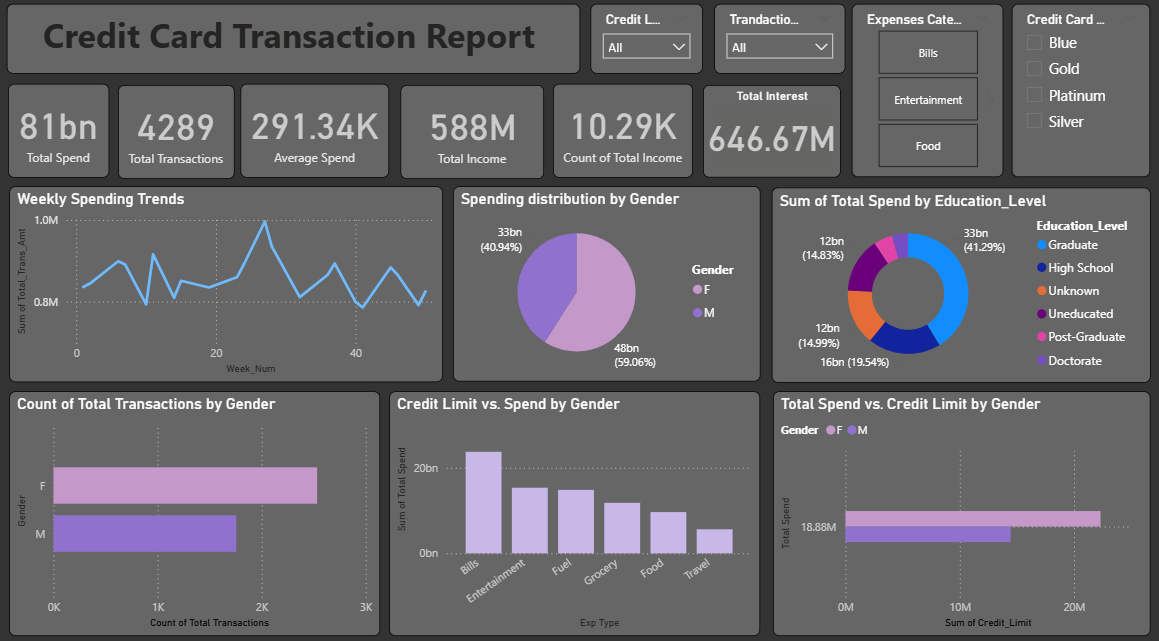

The dashboard page shown, as its layout file describes it:
{"tool":"powerbi","page":{"name":"Card Transaction Report","canvas":[1280,720],"ordinal":1},"visuals":[{"type":"card","title":"Total Spend","fields":{"Values":["Sum(Transactions.Total Spend)"]},"box":[11,102.9,111.1,102.9],"z":0},{"type":"card","fields":{"Values":["CountNonNull(Transactions.Total Transactions)"]},"box":[131.7,104.3,127.6,102.9],"z":1000},{"type":"card","fields":{"Values":["Sum(Transactions.Avg Spend per Transaction)"]},"box":[266.2,102.9,163.3,102.9],"z":2000},{"type":"lineChart","title":"Weekly Spending Trends","fields":{"Category":["Transactions.Week_Num"],"Y":["Sum(Transactions.Total_Trans_Amt)"]},"box":[12.3,215.4,476.2,215.4],"z":3000},{"type":"columnChart","title":"Credit Limit vs. Spend  by Gender","fields":{"Category":["Transactions.Exp Type"],"Y":["Sum(Transactions.Total Spend)"]},"box":[429.5,440.5,407.5,269],"z":4000},{"type":"pieChart","title":"Spending distribution by Gender","fields":{"Category":["Customer.Gender"],"Y":["Sum(Transactions.Total Spend)"]},"box":[499.5,215.4,337.6,214.1],"z":5000},{"type":"barChart","fields":{"Category":["Customer.Gender"],"Y":["CountNonNull(Transactions.Total Transactions)"]},"box":[12.3,440.5,407.5,269],"z":6000},{"type":"clusteredBarChart","title":"Total Spend vs. Credit Limit by Gender","fields":{"Series":["Customer.Gender"],"Category":["Transactions.Total Spend"],"Y":["Sum(Transactions.Credit_Limit)"]},"box":[850.8,440.5,414.4,269],"z":7000},{"type":"donutChart","fields":{"Category":["Customer.Education_Level"],"Y":["Sum(Transactions.Total Spend)"]},"box":[849.4,216.8,415.8,214.1],"z":8000},{"type":"textbox","box":[9.6,15.1,629.8,76.8],"z":9000},{"type":"slicer","fields":{"Values":["Transactions.Credit_Limit"]},"box":[650.4,15.1,123.5,76.8],"z":10000},{"type":"slicer","fields":{"Values":["Transactions.Exp Type"]},"box":[937.2,15.1,166,190.7],"z":11000},{"type":"slicer","fields":{"Values":["Transactions.Card_Category"]},"box":[1112.9,15.1,152.3,190.7],"z":12000},{"type":"card","fields":{"Values":["CountNonNull(Customer.Total Income)"]},"box":[609.3,102.9,153.7,102.9],"z":13000},{"type":"kpi","title":"Total Interest ","fields":{"TrendLine":["Transactions.Week_Num"],"Indicator":["Sum(Transactions.Total Interest)"]},"box":[773.9,104.3,150.9,101.5],"z":14000},{"type":"slicer","fields":{"Values":["Transactions.Week_Num"]},"box":[786.3,15.1,144.1,76.8],"z":15000},{"type":"card","fields":{"Values":["Max(Customer.Total Income)"]},"box":[441.9,104.3,157.8,102.9],"z":16000}]}

Visuals, with their boxes in screenshot pixels (x1, y1, x2, y2), scaled from the page's 1280x720 canvas onto the 1159x641 screenshot:
"Total Spend" card: Rect(10, 92, 111, 183)
card - CountNonNull(Transactions.Total Transactions): Rect(119, 93, 235, 184)
card - Sum(Transactions.Avg Spend per Transaction): Rect(241, 92, 389, 183)
"Weekly Spending Trends" lineChart: Rect(11, 192, 442, 384)
"Credit Limit vs. Spend  by Gender" columnChart: Rect(389, 392, 758, 632)
"Spending distribution by Gender" pieChart: Rect(452, 192, 758, 382)
barChart - Customer.Gender x CountNonNull(Transactions.Total Transactions): Rect(11, 392, 380, 632)
"Total Spend vs. Credit Limit by Gender" clusteredBarChart: Rect(770, 392, 1146, 632)
donutChart - Customer.Education_Level x Sum(Transactions.Total Spend): Rect(769, 193, 1146, 384)
textbox: Rect(9, 13, 579, 82)
slicer - Transactions.Credit_Limit: Rect(589, 13, 701, 82)
slicer - Transactions.Exp Type: Rect(849, 13, 999, 183)
slicer - Transactions.Card_Category: Rect(1008, 13, 1146, 183)
card - CountNonNull(Customer.Total Income): Rect(552, 92, 691, 183)
"Total Interest " kpi: Rect(701, 93, 837, 183)
slicer - Transactions.Week_Num: Rect(712, 13, 842, 82)
card - Max(Customer.Total Income): Rect(400, 93, 543, 184)
